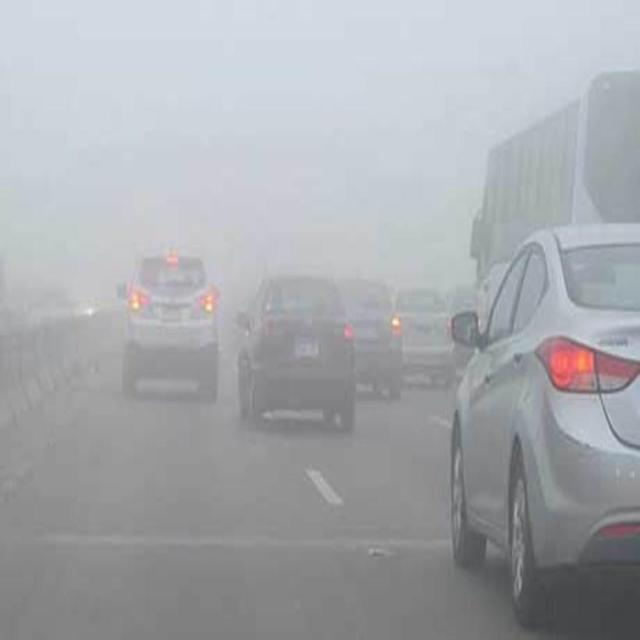Bus: (468, 72, 635, 292)
Car: (450, 222, 640, 636), (234, 277, 354, 426), (120, 235, 224, 400), (336, 258, 398, 389), (398, 268, 458, 372)
